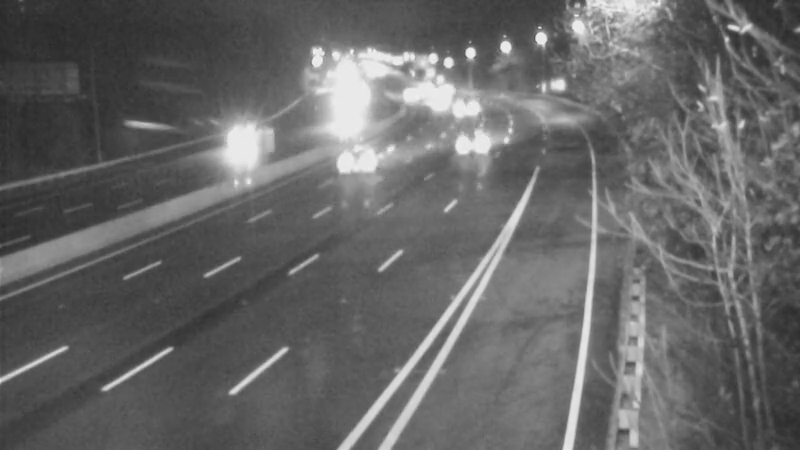vehicle: (312, 124, 392, 204), (382, 69, 432, 119), (402, 73, 452, 123), (444, 86, 494, 136), (449, 115, 499, 165), (211, 108, 261, 158)
